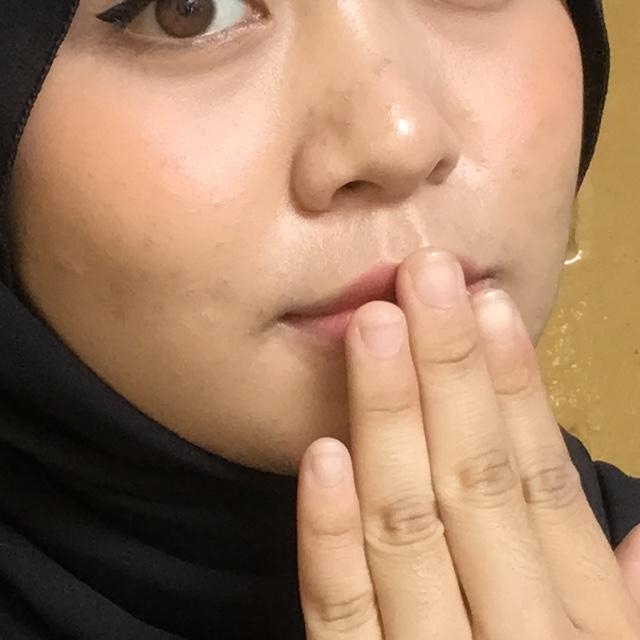ganteng: (260, 221, 640, 640)
